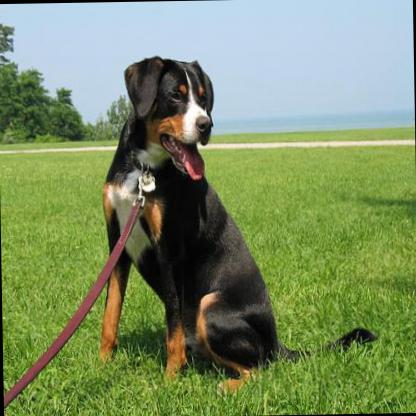EntleBucher: (89, 48, 378, 390)
